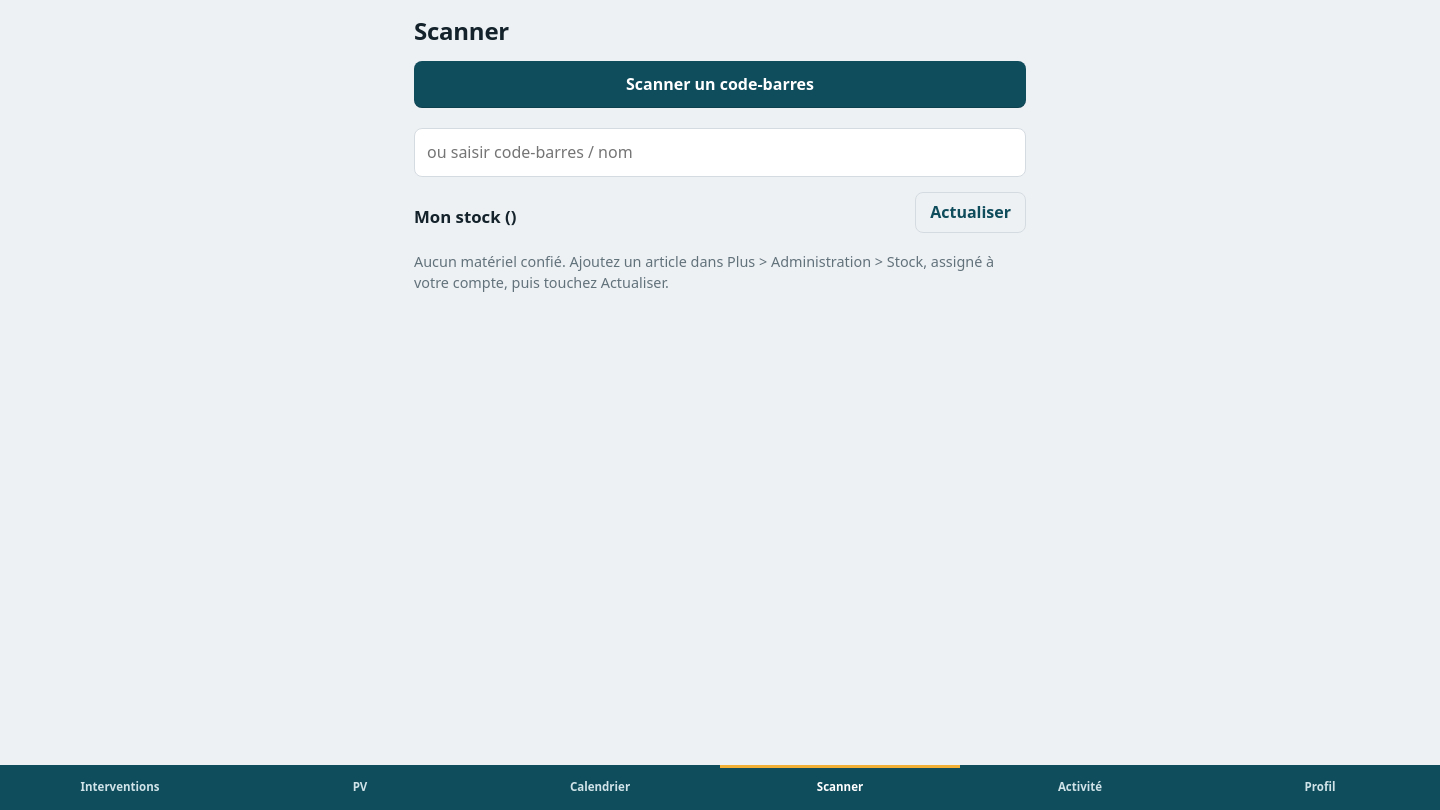
Test: scanner › bouton Actualiser
Click the button "Actualiser".
click(971, 212)  # box [915,192,1026,233]
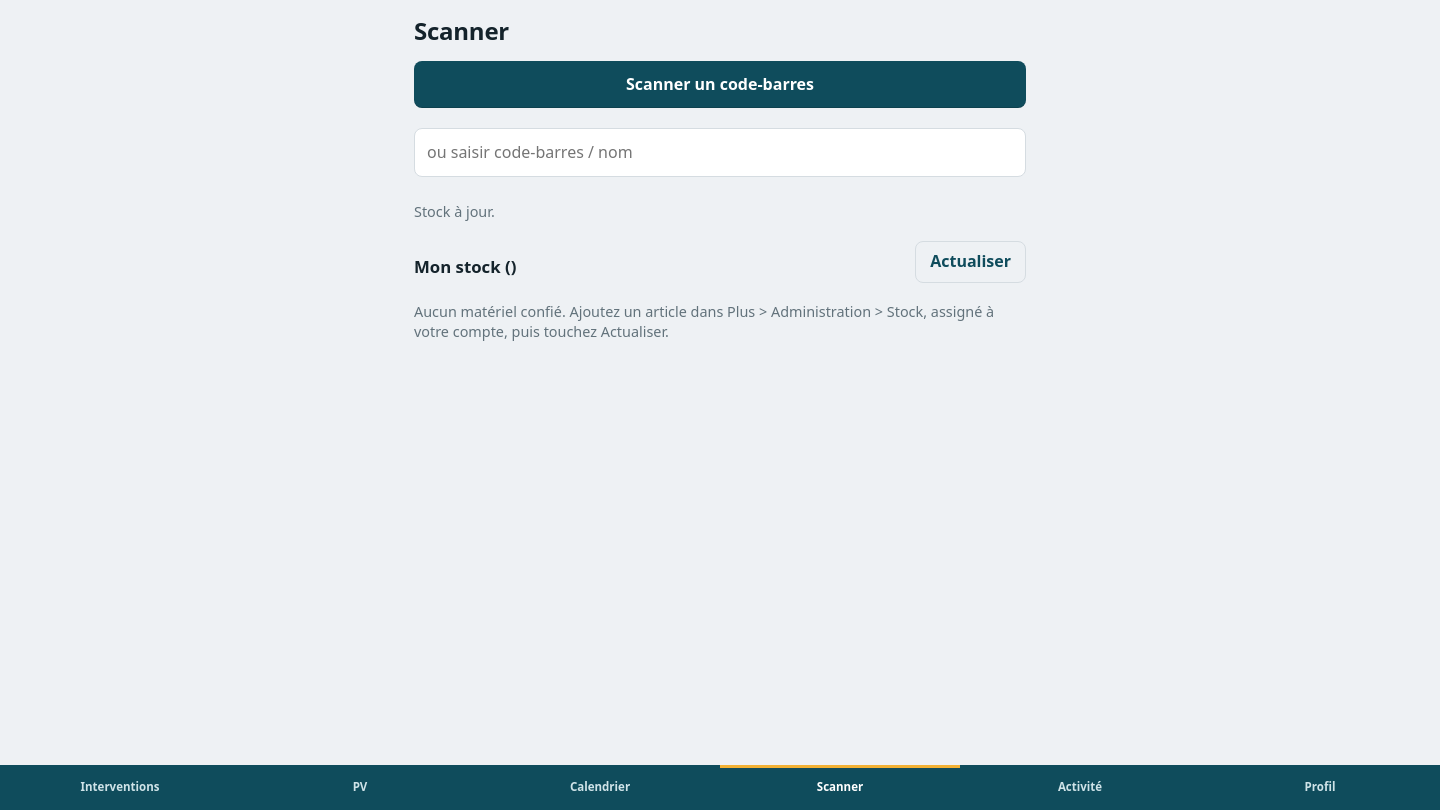
Now the text "Stock à jour." is shown, box [414,202,495,221]
